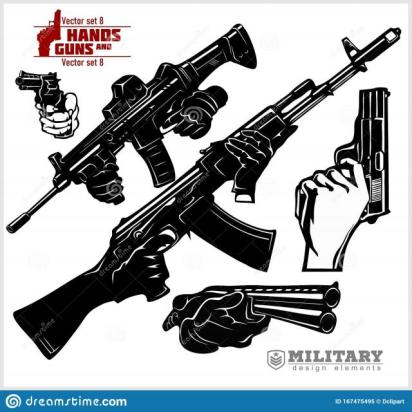Gun: (294, 83, 394, 228), (11, 68, 80, 140)
